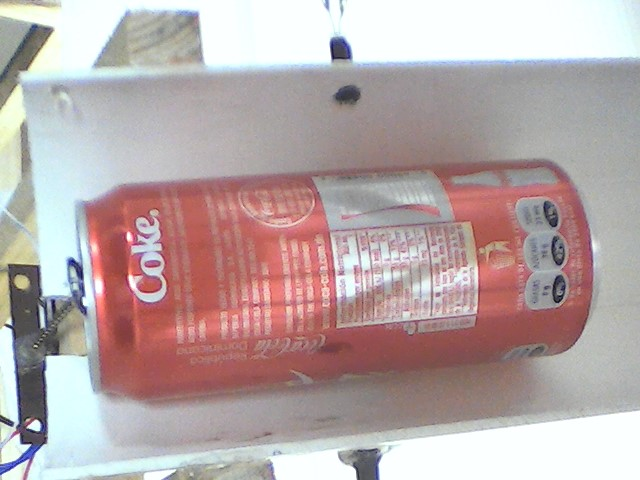lata: (74, 153, 613, 413)
